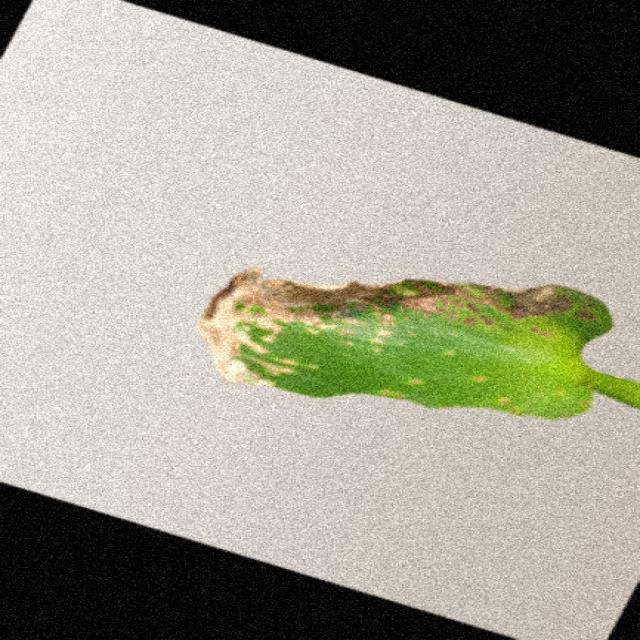daun sehat: (200, 269, 638, 418)
